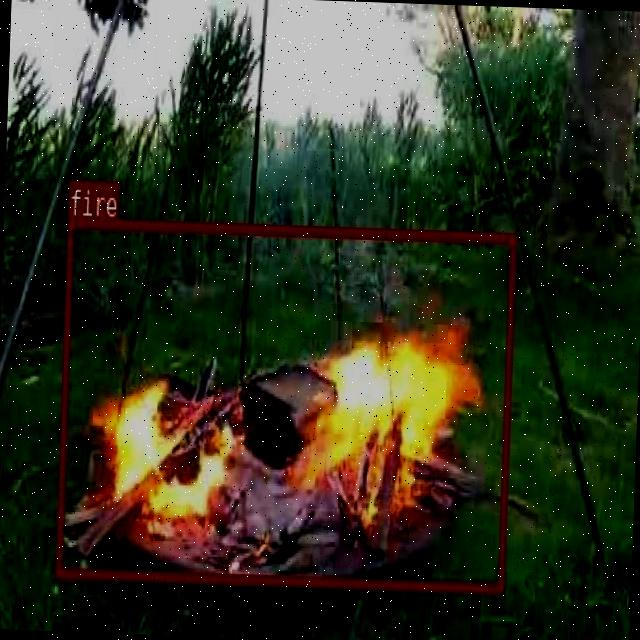fire: (54, 215, 514, 590)
